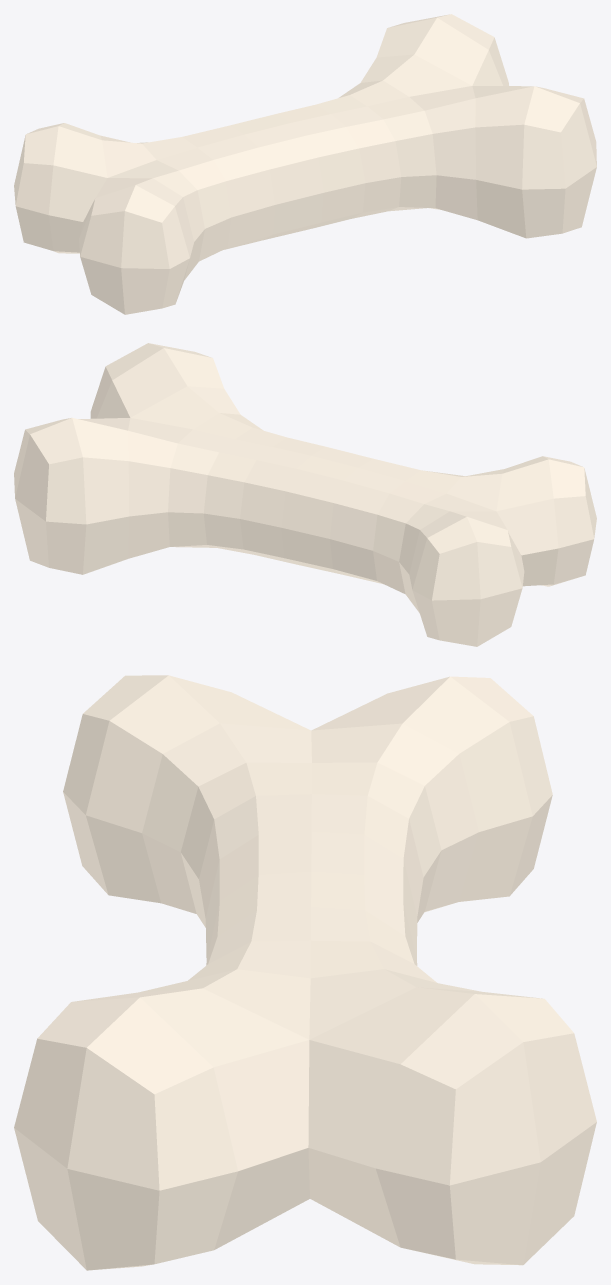
File: Prop_Bone.glb
3 views of the same model, one above another, from view 1: azimuth 30°, elevation 25°; view 2: azimuth 150°, elevation 25°; view 3: azimuth 270°, elevation 25° (orthographic). The views are drawn at different scales.
Parts seen in each view (by area): view 1: Prop_Bone; view 2: Prop_Bone; view 3: Prop_Bone.
Part boxes in pixels (x1=…): Prop_Bone: x1=14, y1=14, x2=596, y2=314; Prop_Bone: x1=14, y1=343, x2=596, y2=646; Prop_Bone: x1=14, y1=675, x2=596, y2=1270.
Size of the model in its own units: 1.47 by 0.4213 by 0.8241.
Materials: 1 (1 with a texture image).
